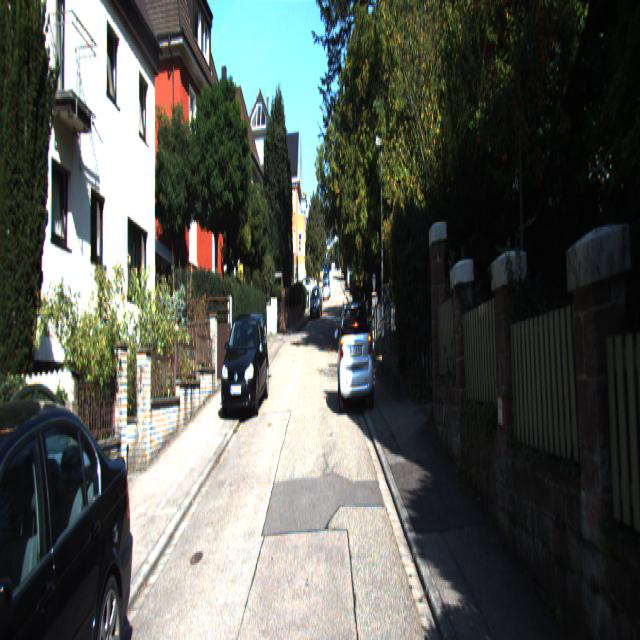Car: (0, 379, 143, 638), (218, 314, 271, 422), (336, 295, 374, 415)
